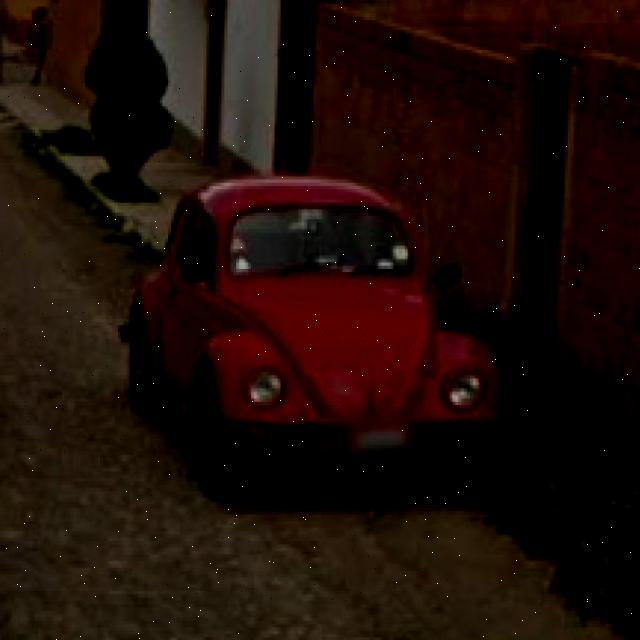car: (137, 180, 500, 474)
